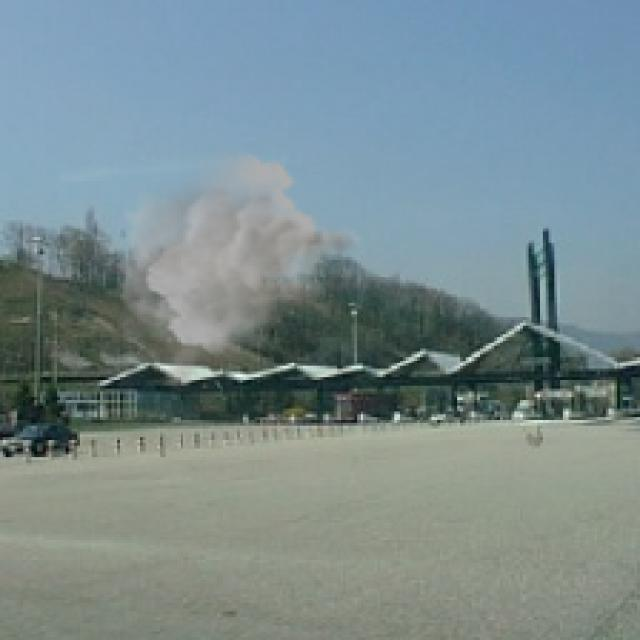smoke: (111, 148, 366, 388)
